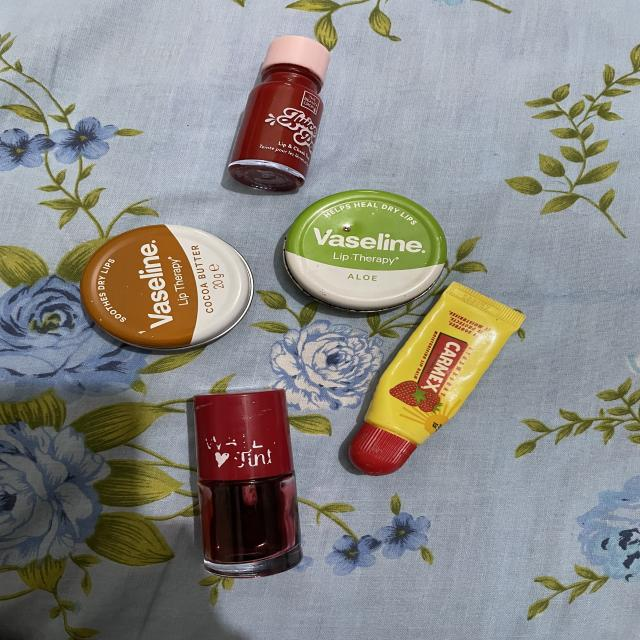Tint: (162, 370, 310, 582), (206, 27, 350, 194)
lip balm: (340, 283, 556, 476), (67, 208, 261, 356), (264, 186, 454, 322)
